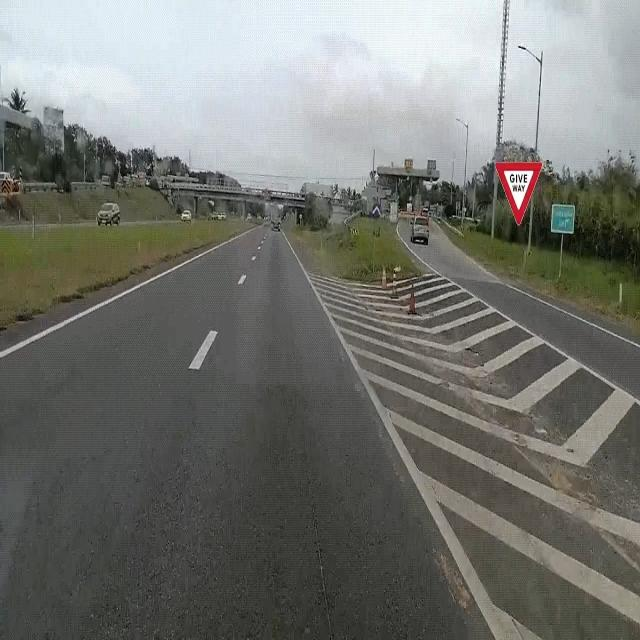Ceder-le-Passage: (493, 151, 543, 237)
